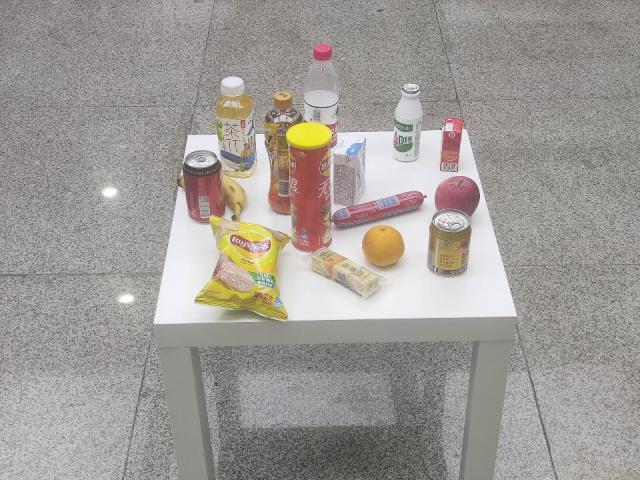Canned_drinks: (422, 207, 474, 276), (184, 150, 227, 224)
bottle: (300, 42, 348, 148), (393, 80, 422, 162)
cylinder: (283, 120, 338, 249)
drink_box: (329, 134, 372, 209), (436, 115, 466, 174)
